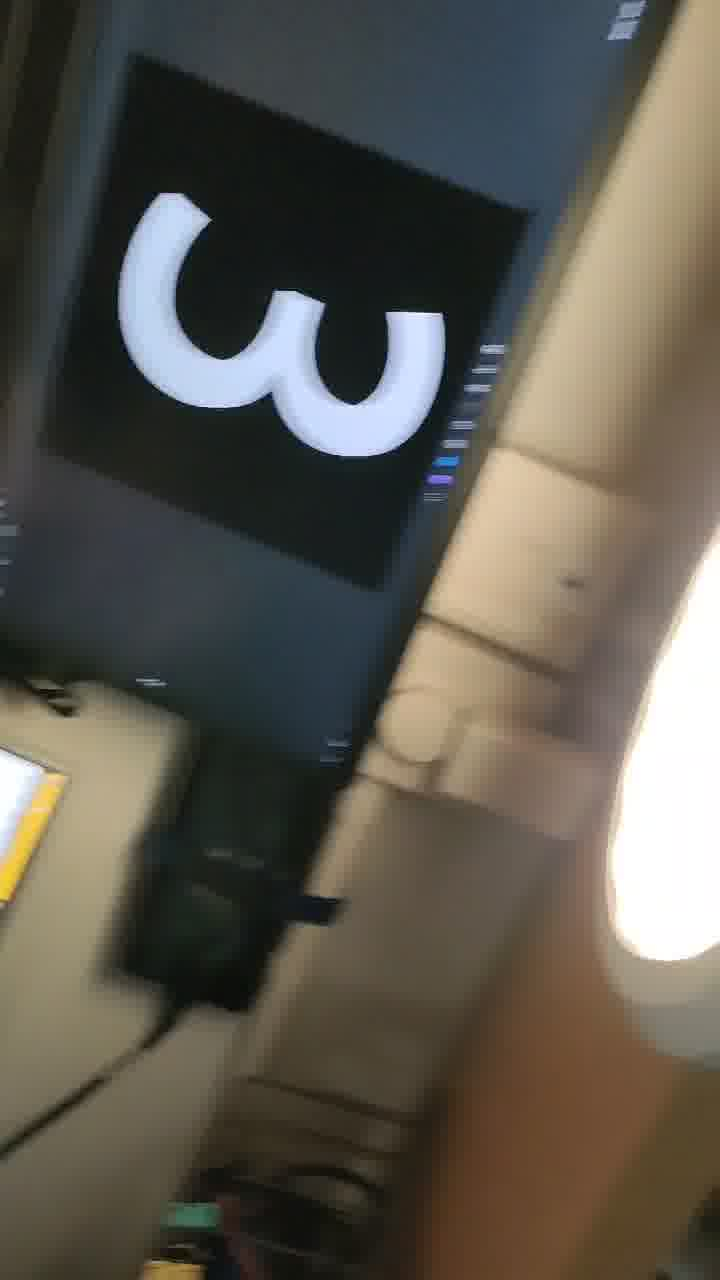three: (83, 154, 447, 491)
